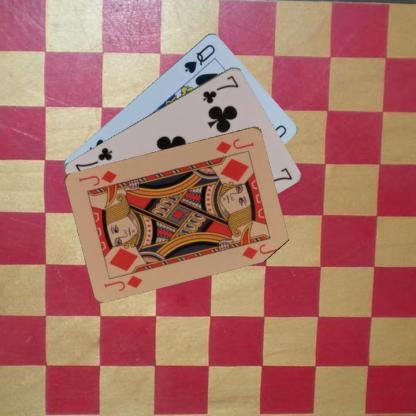7c: (200, 72, 240, 105)
Jd: (101, 272, 144, 292), (214, 136, 256, 155)
Qs: (182, 41, 216, 75)
